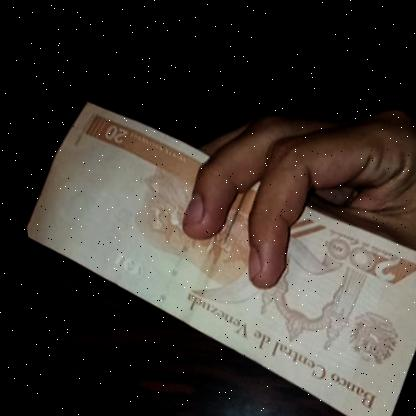twenty-back-vef: (7, 77, 416, 416)
